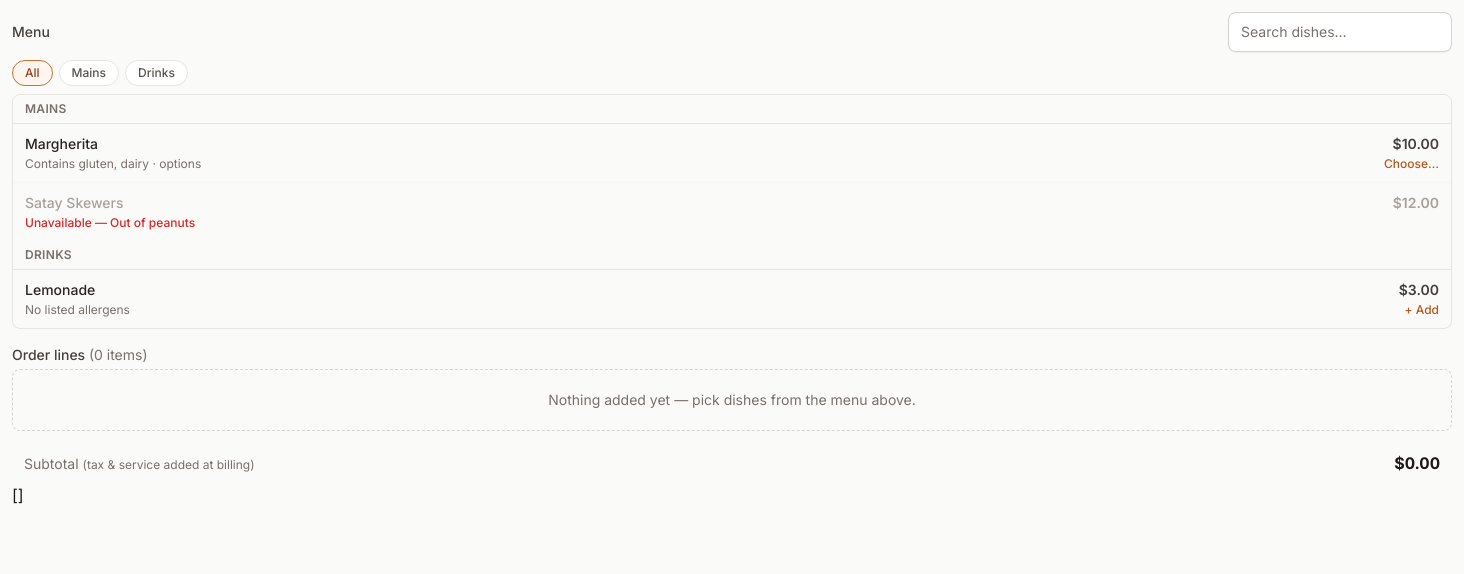
Test case: OrderLineEditor › opens the modifier picker with defaults pre-selected for a dish with options
Click the button "Margherita Contains gluten, dairy · options $10.00 Choose…" at (62, 144), box [13, 124, 1451, 182]
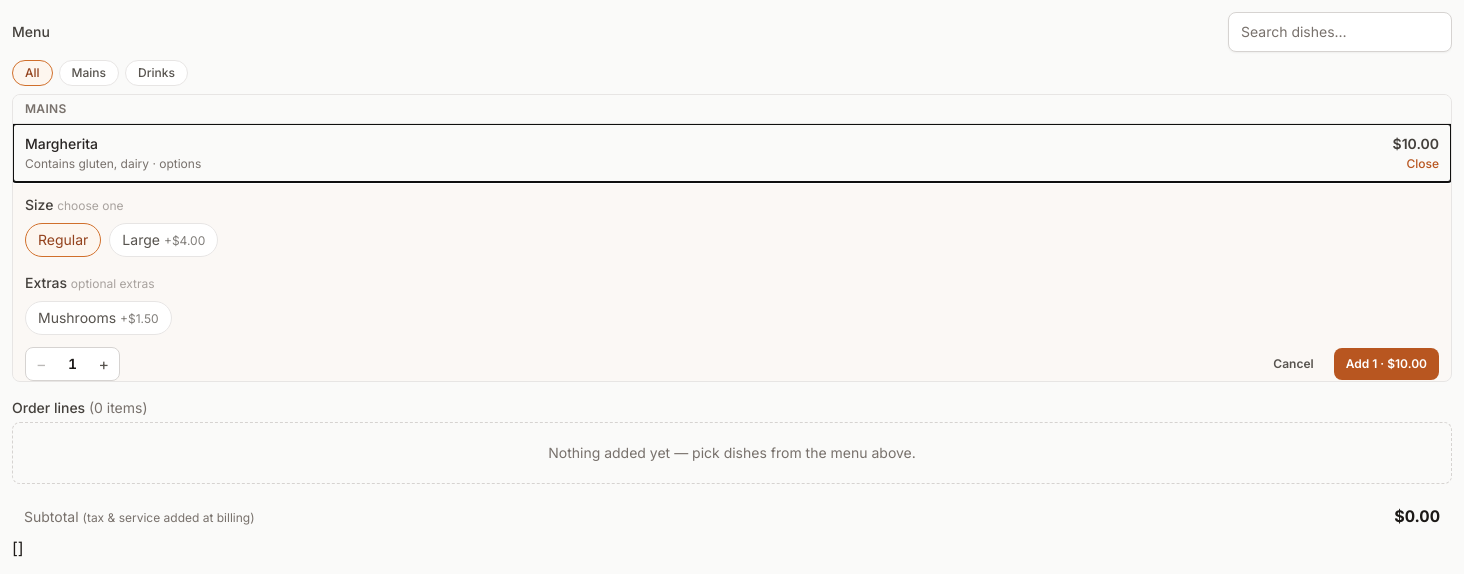
Click the button "Add 1 · $10.00" at (1386, 364), box [1334, 348, 1439, 380]
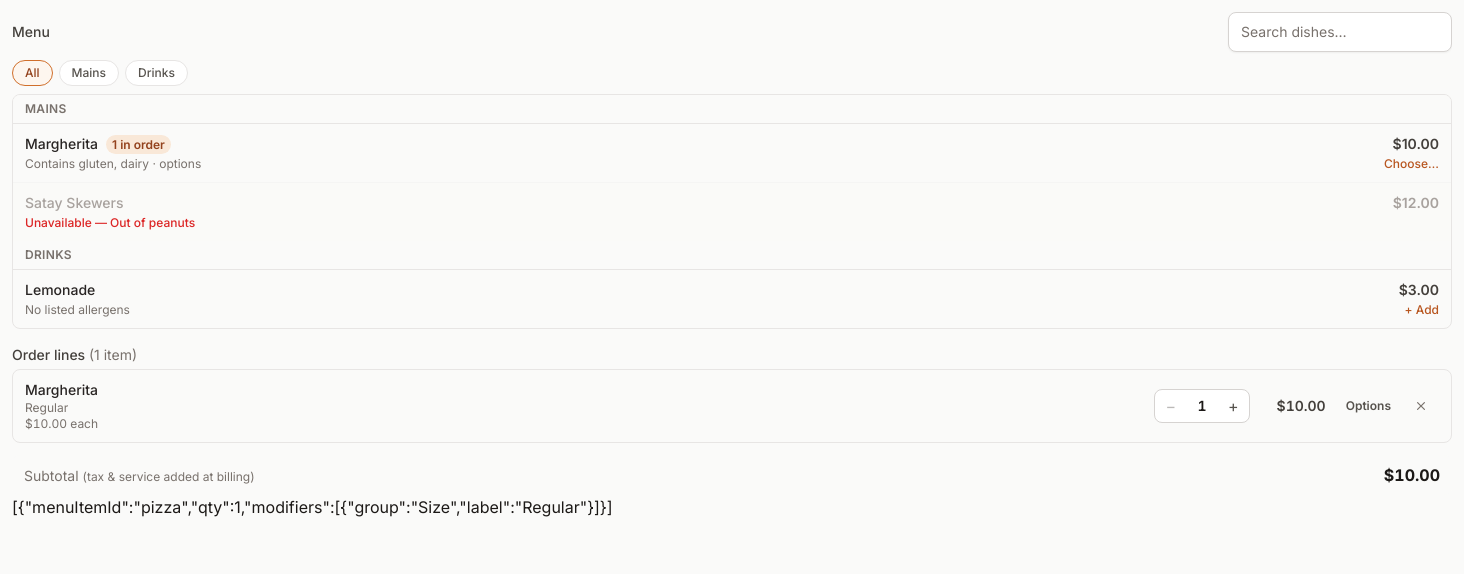
Expected: the radio button labelled "Large" is gone
